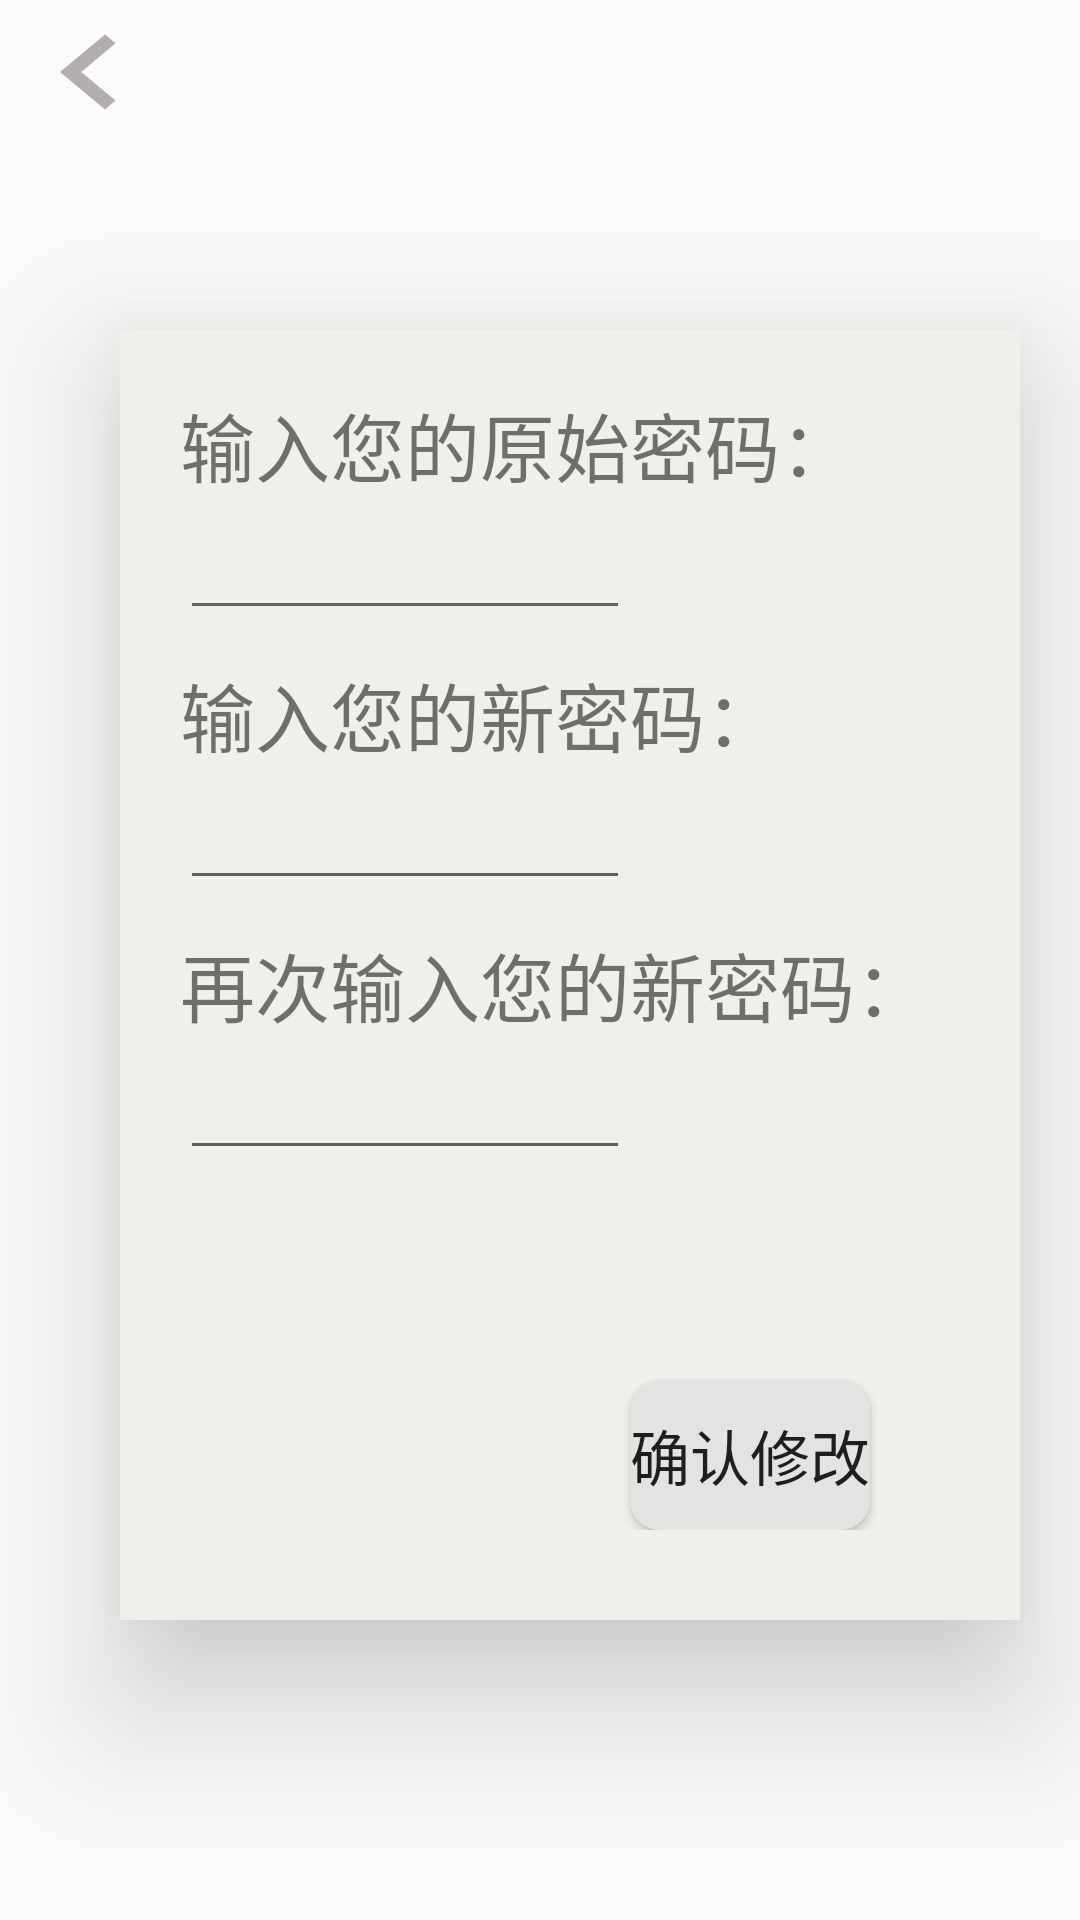

Icons on this 1080*1920 Android screen, each with the point to tap as (x=x, y=y):
keyboard arrow left: (x=87, y=72)
